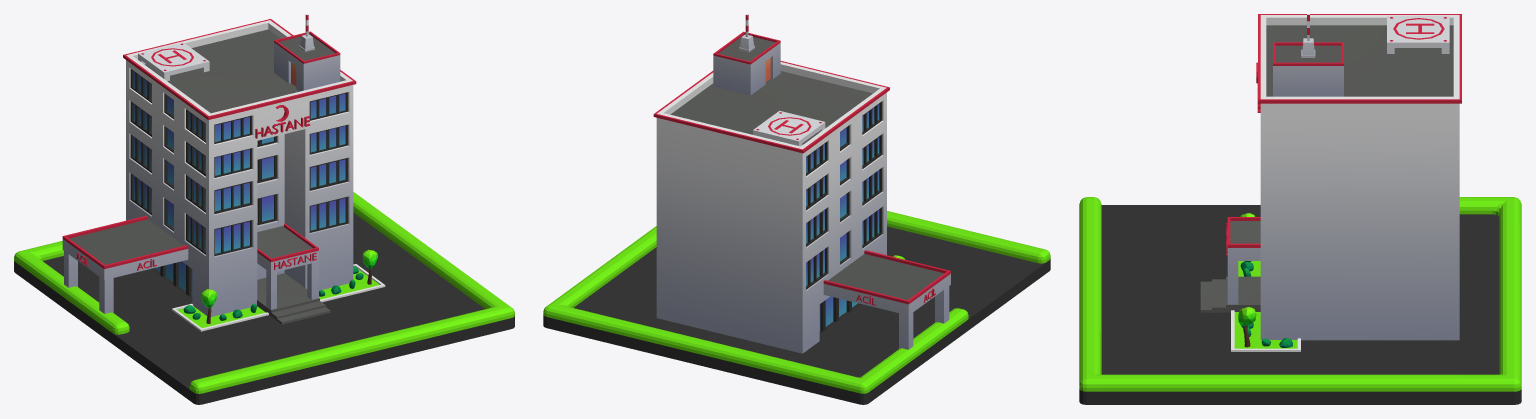
Rendered from Hospital.fbx.
3 renders of one model, left to right at view 1: azimuth 30°, elevation 25°; view 2: azimuth 150°, elevation 25°; view 3: azimuth 270°, elevation 25°, orthographic. The views are drawn at different scales.
Parts seen in each view (by area): view 1: Hospital; view 2: Hospital; view 3: Hospital.
Part boxes in pixels (x1,y1,x2,y2): Hospital: [14, 14, 514, 404]; Hospital: [543, 14, 1050, 404]; Hospital: [1079, 14, 1521, 404].
Size of the model in its own units: 400 by 323 by 400.
